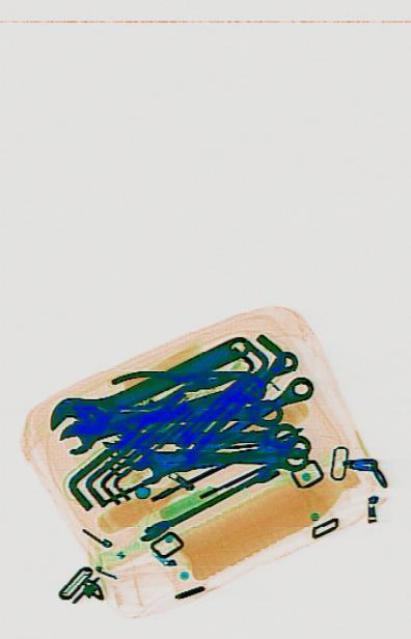Wrench: (44, 318, 253, 453), (57, 370, 264, 457), (133, 442, 306, 485)
